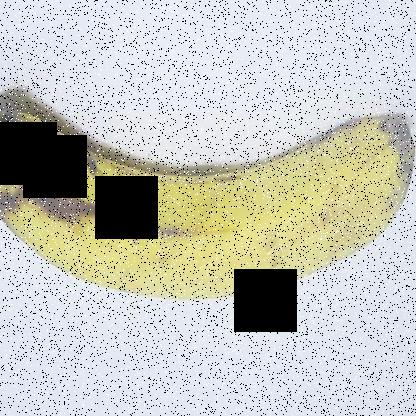ripe: (0, 77, 415, 311)
